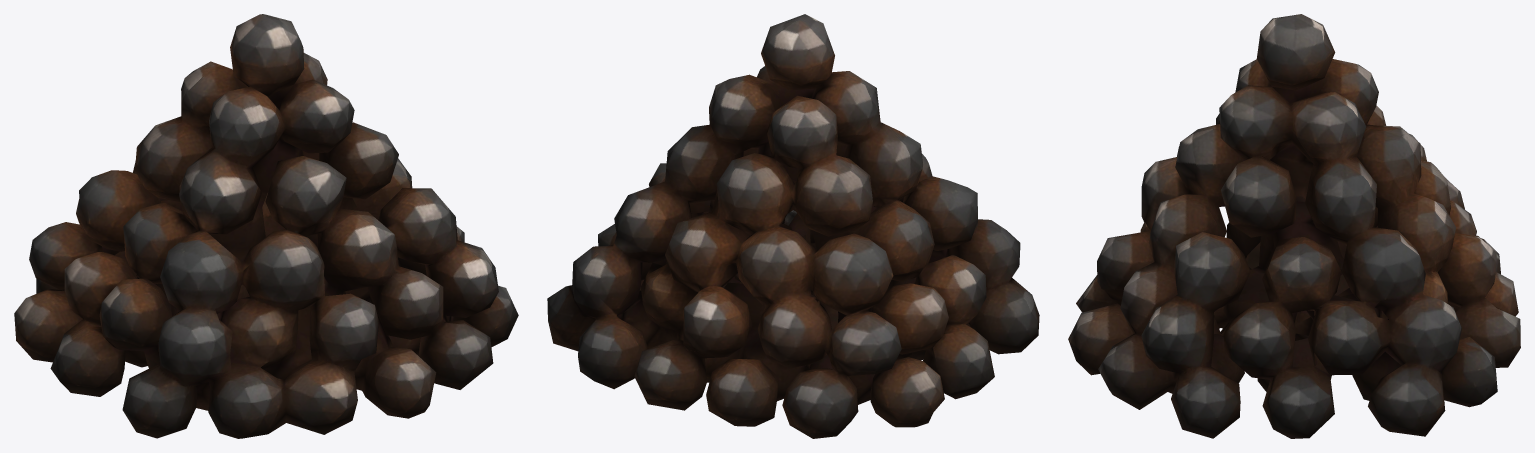
File: cannonball_pile.glb
The picture shows the model from 3 angles, left to right: view 1: azimuth 30°, elevation 25°; view 2: azimuth 150°, elevation 25°; view 3: azimuth 270°, elevation 25°; orthographic projection. The views are drawn at different scales.
Visible parts, largest first — view 1: world; view 2: world; view 3: world.
Boxes of the visible parts, x1,y1,x2,y2 form: world: [14, 14, 518, 438]; world: [547, 14, 1039, 438]; world: [1068, 14, 1520, 438].
Bounding box in the file's own units: 0.9908 × 0.7857 × 0.9499.
Materials: 1 (1 with a texture image).
